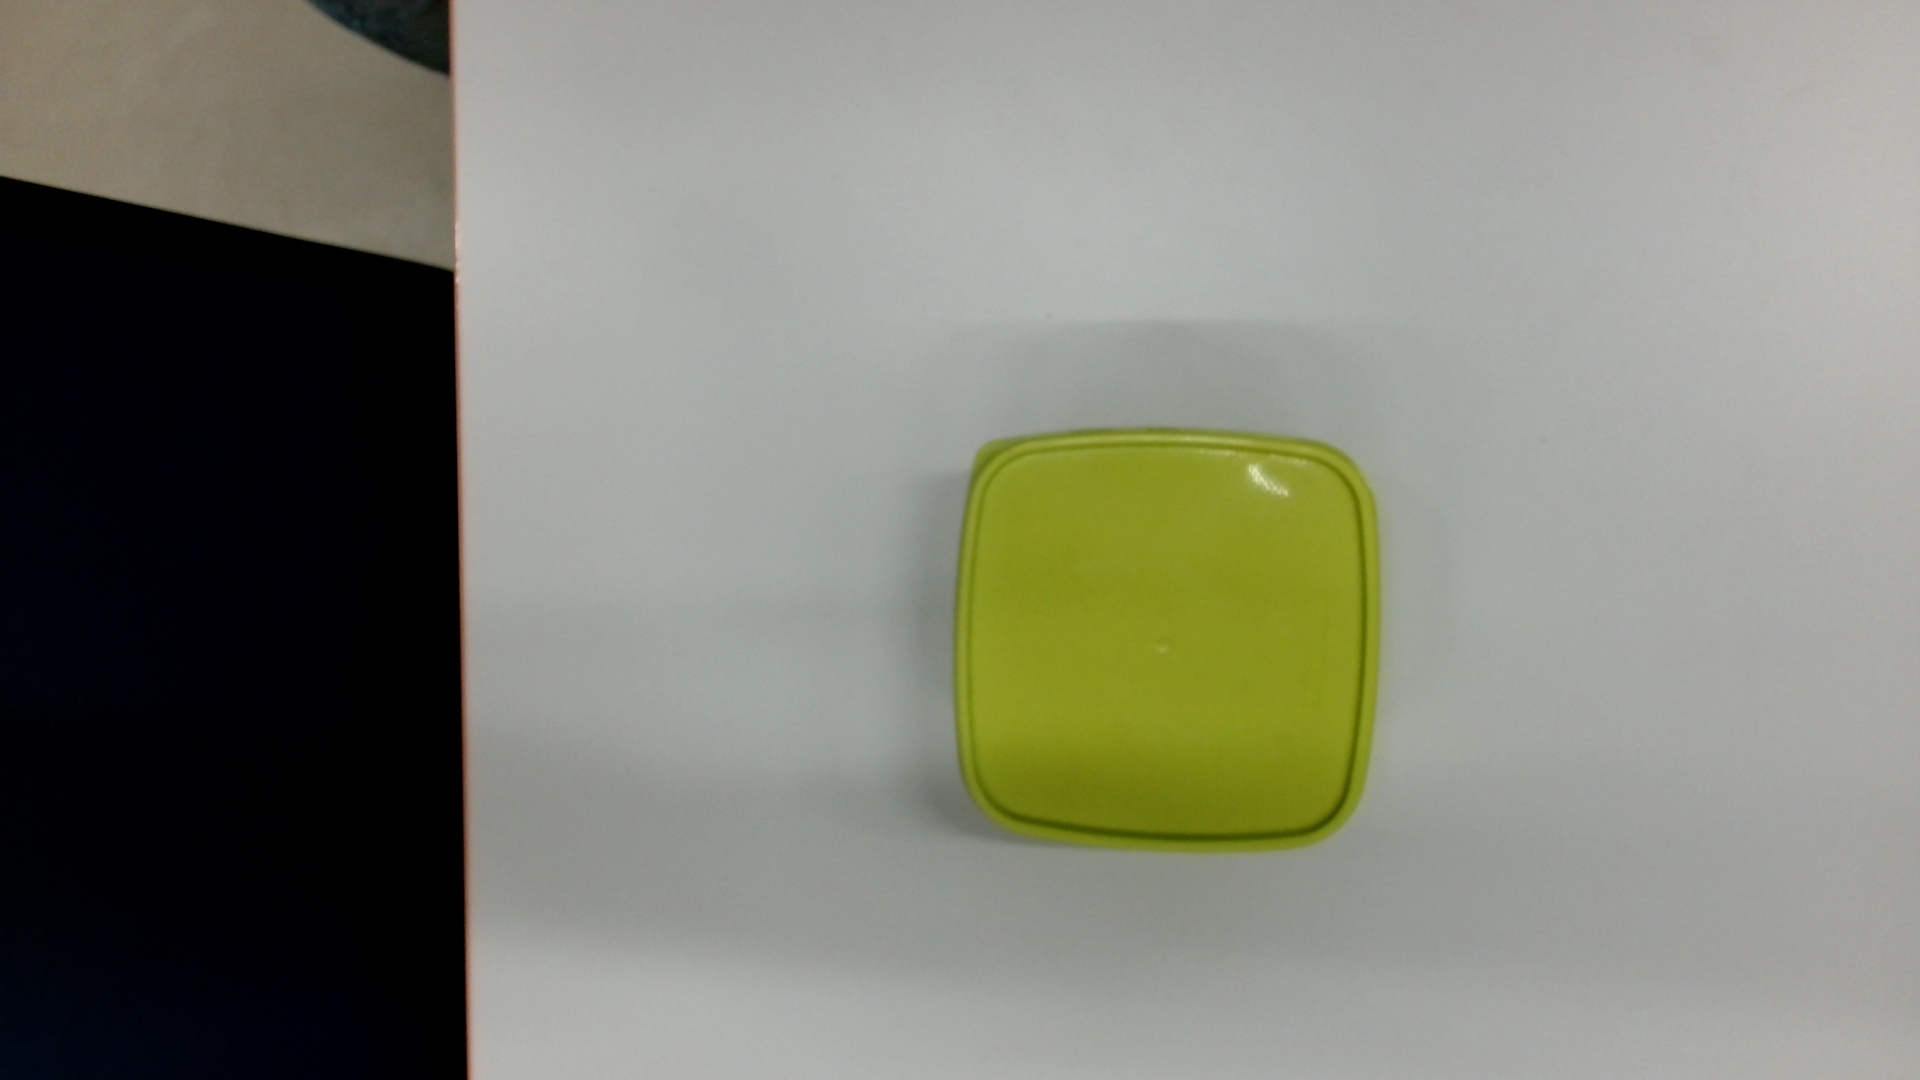Box: (945, 422, 1390, 866)
